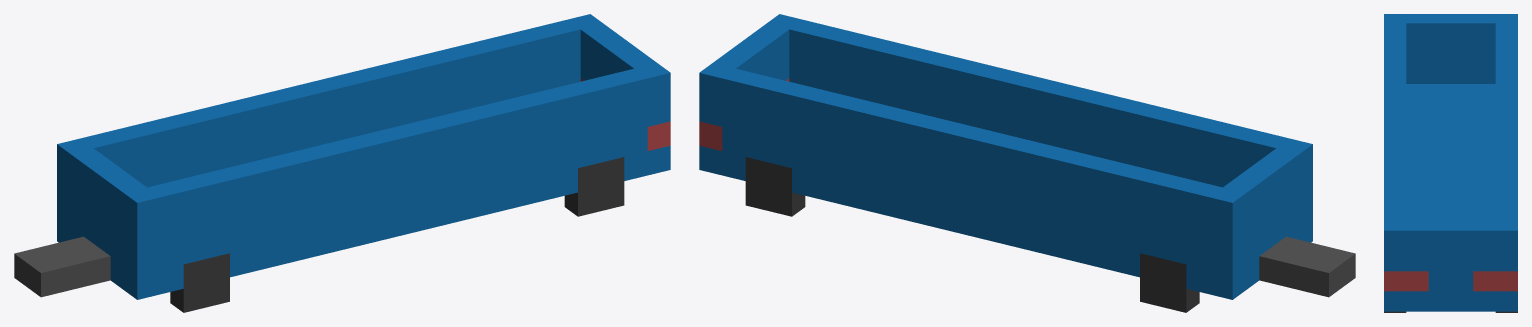
File: truck-trailer-v3-blue.gltf
The picture shows the model from 3 angles, left to right: view 1: azimuth 30°, elevation 25°; view 2: azimuth 150°, elevation 25°; view 3: azimuth 270°, elevation 25°; orthographic projection. The views are drawn at different scales.
Visible parts, largest first — view 1: model, wheels; view 2: model, wheels; view 3: model.
Part boxes in pixels (x1,y1,x2,y2): model: (14,14,670,299); wheels: (170,157,624,312); model: (699,14,1355,299); wheels: (745,157,1199,312); model: (1384,14,1517,311).
Size of the model in its own units: 2.6 by 0.5 by 0.6.
Materials: 2 (2 with a texture image).
